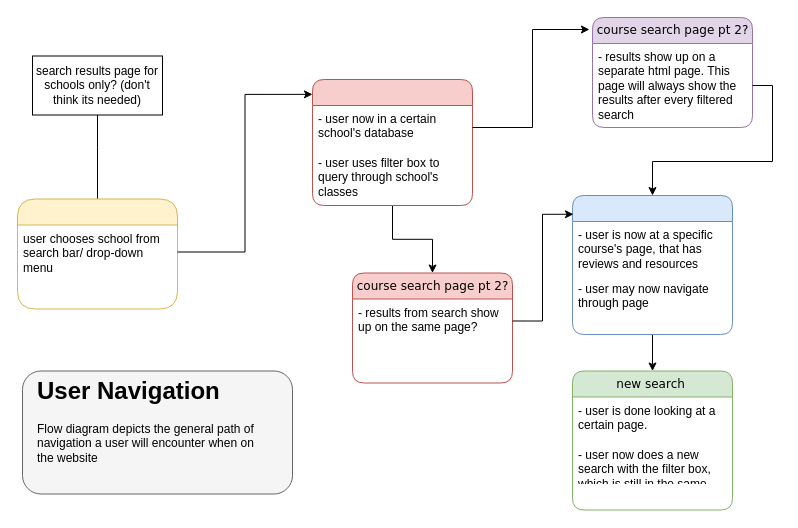
This 798x528 diagram has some shape labels left out. The box of each missing label's shape, as (x1, y1, x2, y2) in pixels:
course page: (572, 194, 732, 334)
course search page: (312, 78, 472, 206)
home page: (16, 198, 178, 309)
